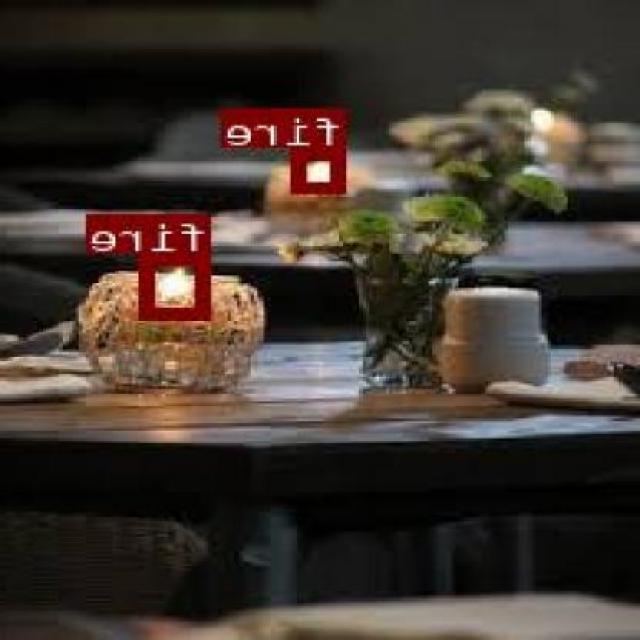fire: (144, 252, 212, 317), (296, 146, 350, 191)
